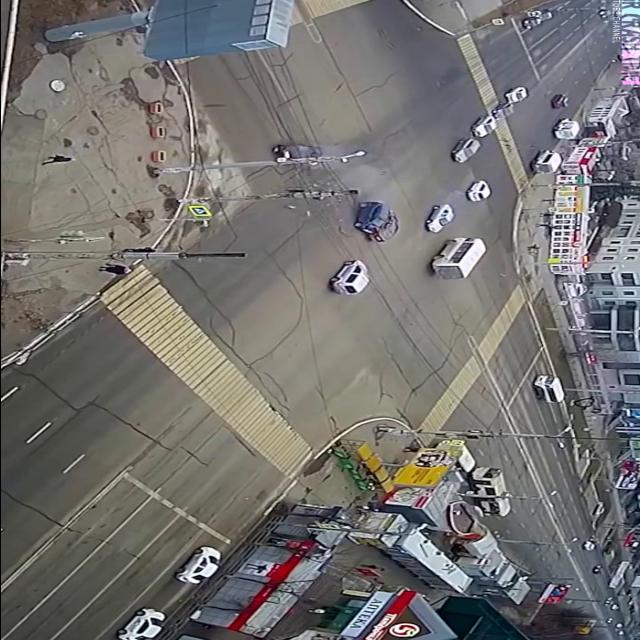accident: (263, 141, 337, 167), (347, 200, 391, 236)
non_accident: (445, 84, 531, 166)
